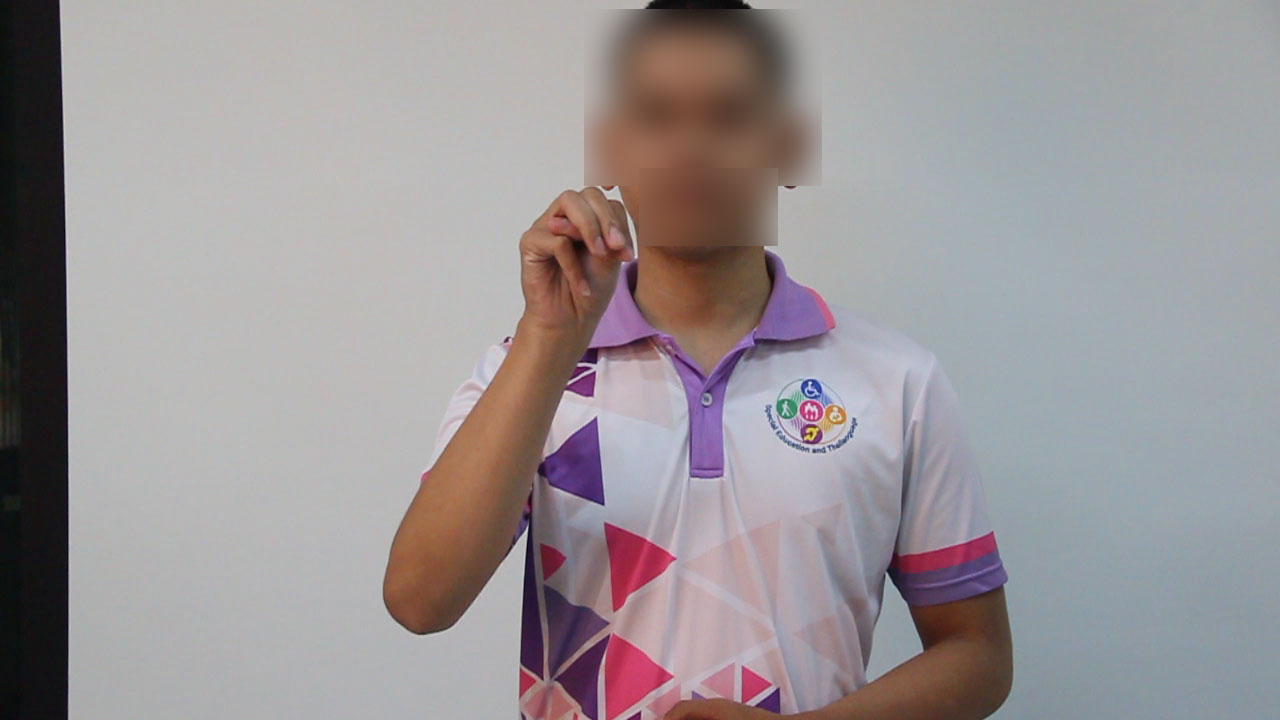mor: (503, 164, 651, 374)
